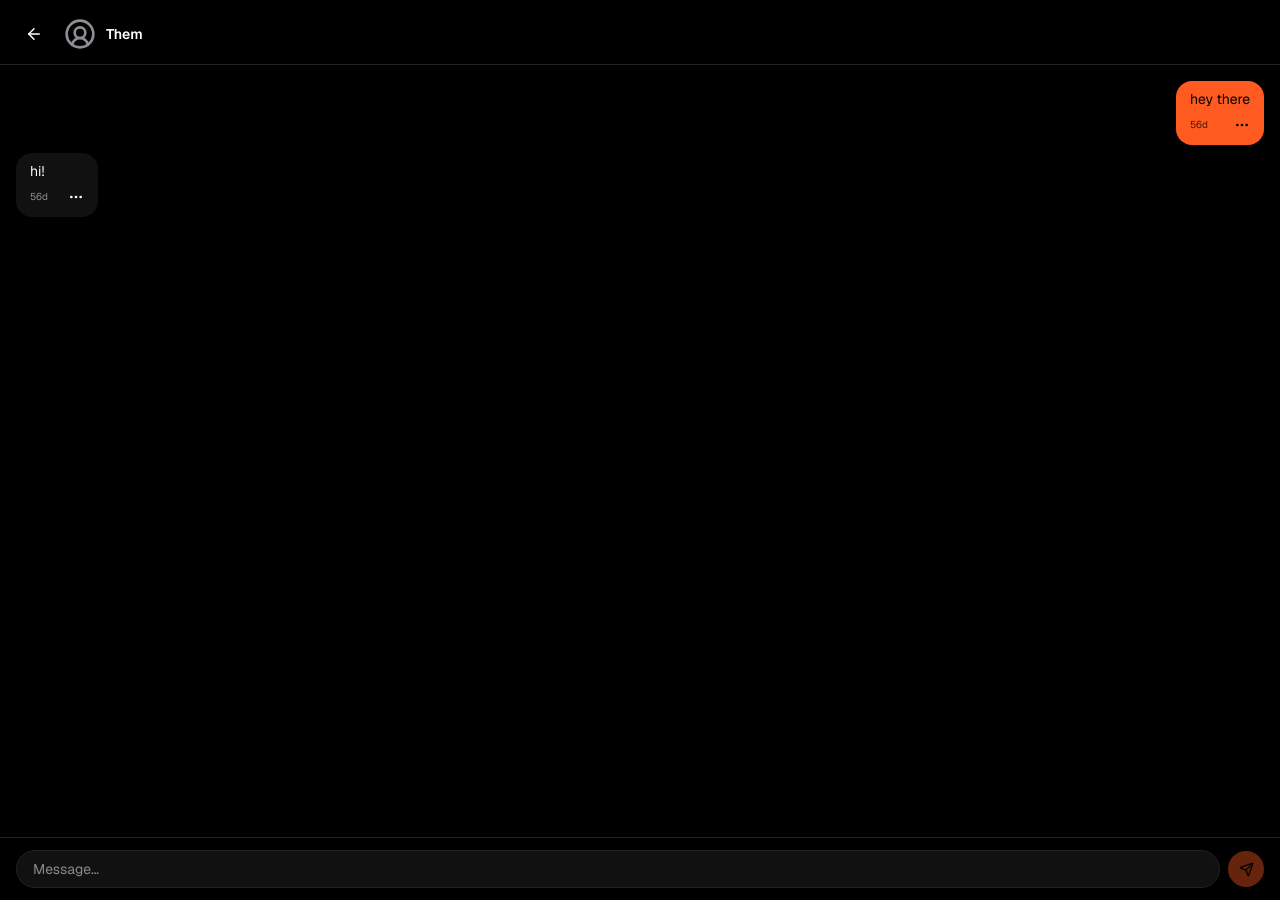
Test: DM thread page › sends a message and appends it optimistically on success
Expected: the text "hey there" is shown, x1=1190 y1=89 x2=1250 y2=109
Type "new message" into the field with placeholder "Message…". click: point(618, 869)
box: x1=16 y1=850 x2=1220 y2=888
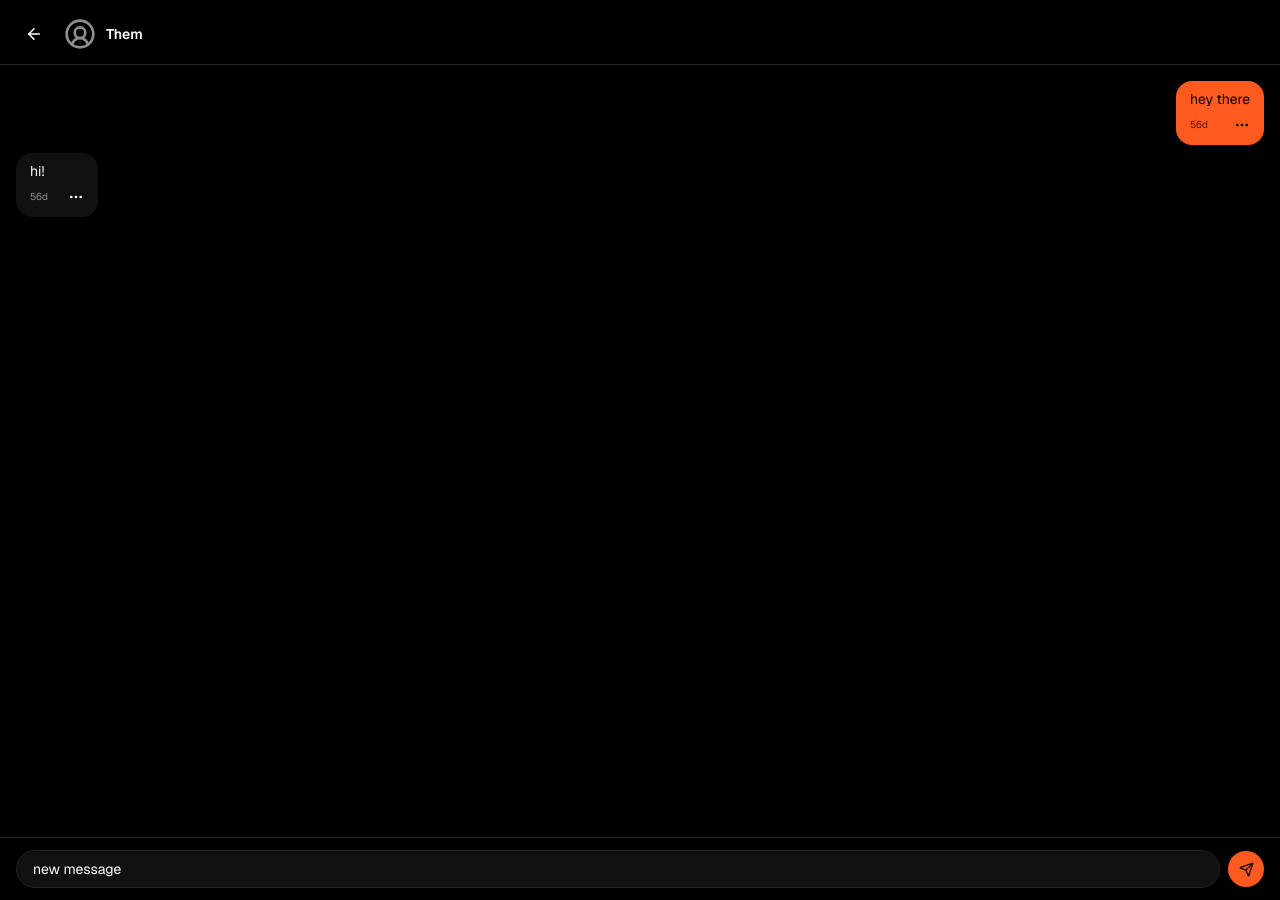
Click the button named "Send message". click: point(1246, 869)
box: x1=1228 y1=851 x2=1264 y2=887
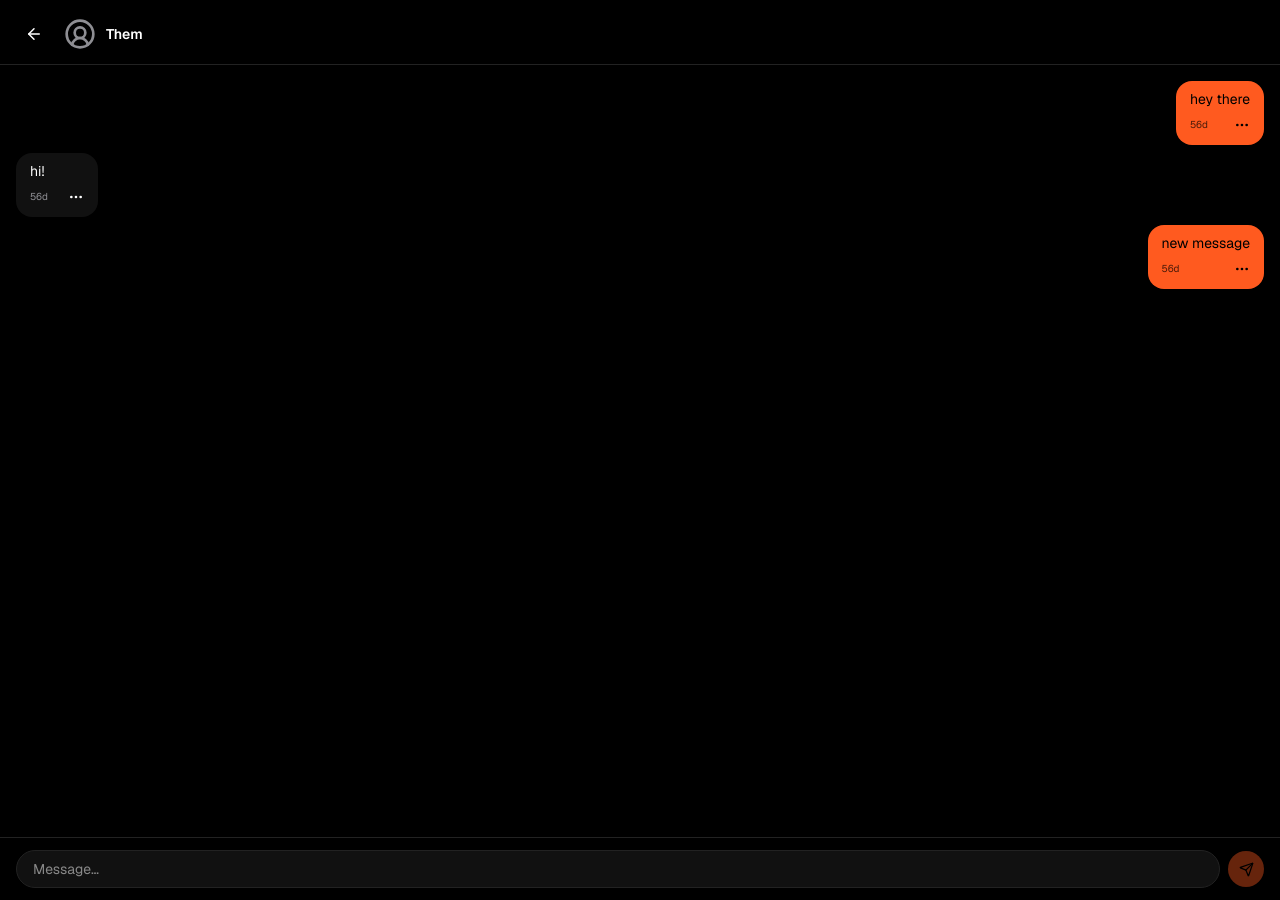
Expected: the text "new message" is shown, x1=1162 y1=233 x2=1250 y2=253
